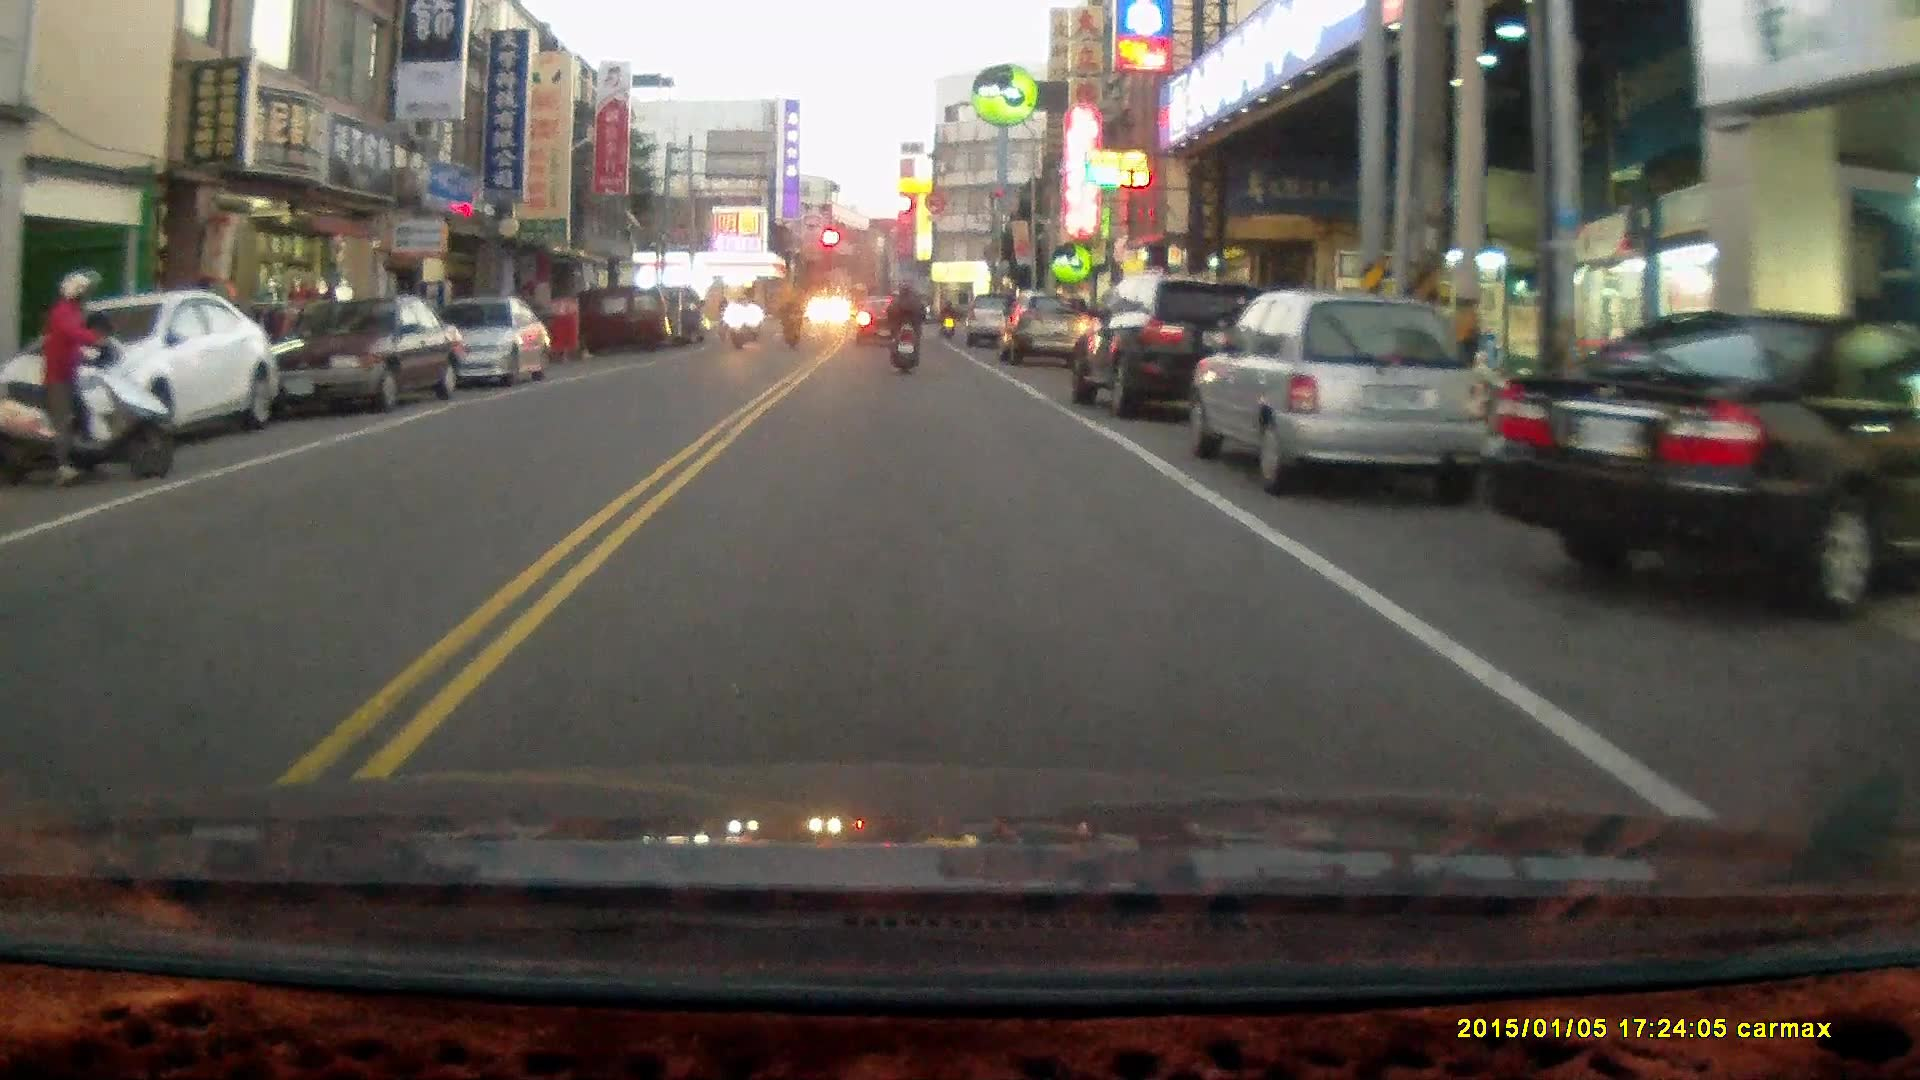rider: (15, 269, 177, 485), (881, 276, 922, 373), (777, 295, 804, 351), (728, 292, 753, 349), (712, 292, 733, 346), (741, 294, 763, 341), (934, 293, 956, 337)
vehicle: (1483, 301, 1920, 622), (1182, 296, 1490, 498), (5, 285, 290, 458), (1068, 275, 1279, 425), (242, 296, 462, 416), (419, 296, 553, 394), (1003, 291, 1088, 366), (588, 290, 670, 356), (962, 290, 1029, 350)
